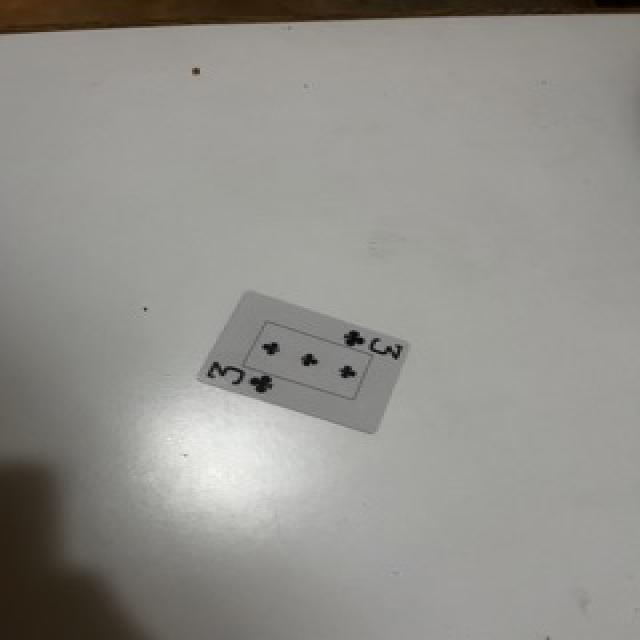3 of clubs: (198, 291, 408, 432)
